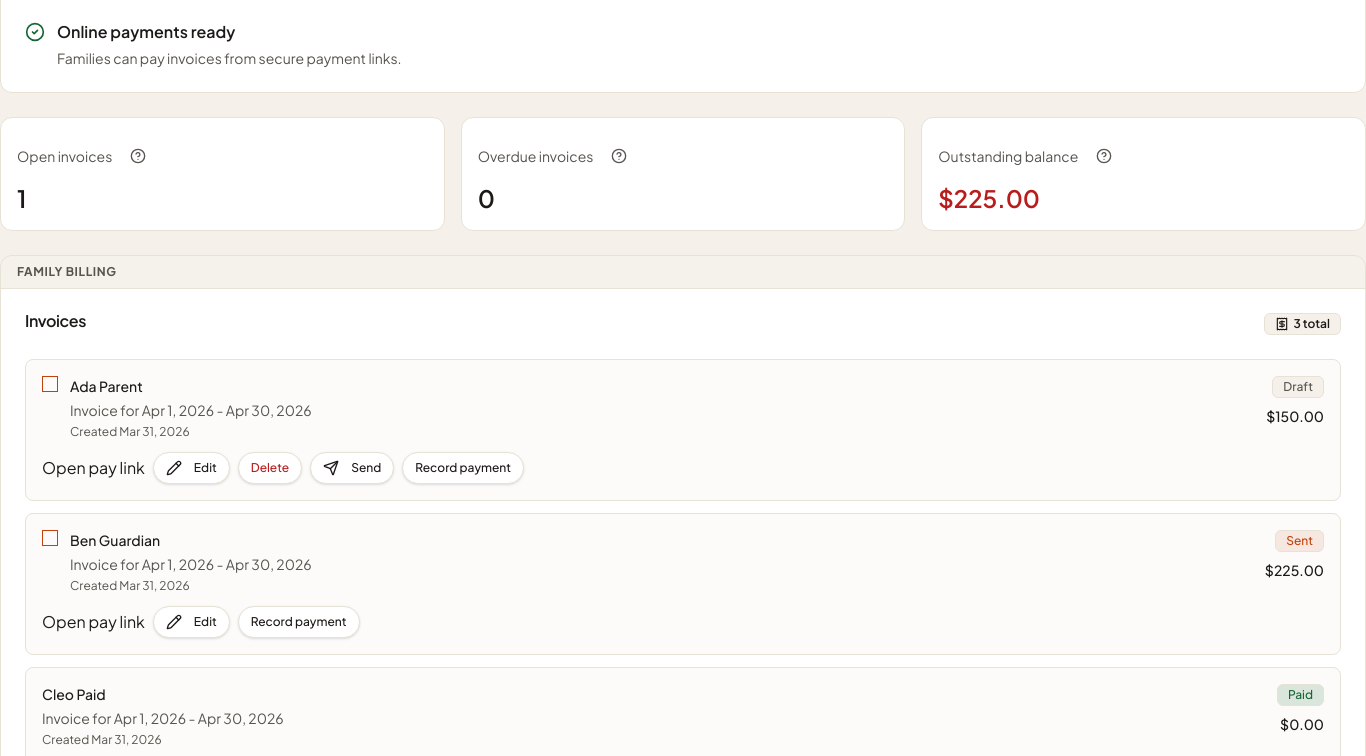
Test: BillingPage - bulk invoice actions › bulk sends selected draft invoices without sending selected non-drafts
The width and height of the screenshot is (1366, 756).
(page scrolled)
Click the checkbox named "Select invoice for Ada Parent" at (50, 384), box [42, 376, 58, 392]
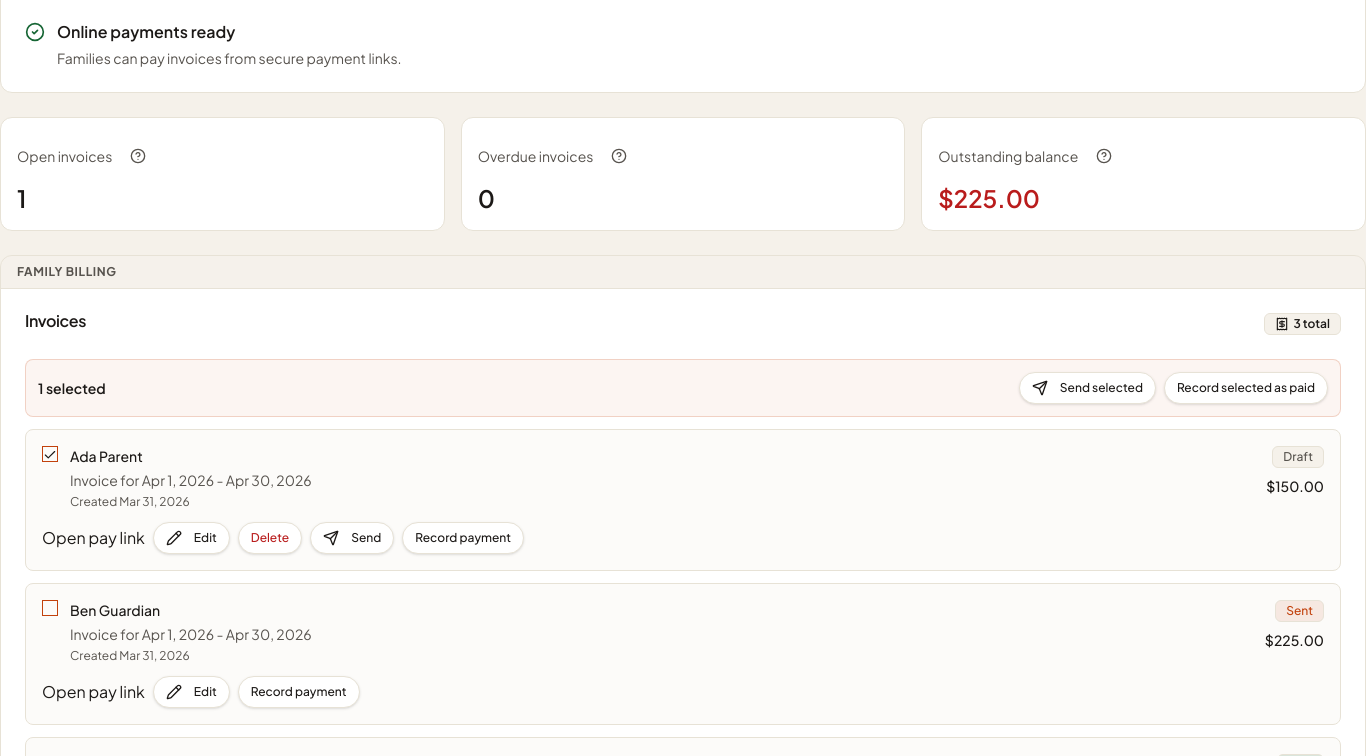
Click the checkbox named "Select invoice for Ben Guardian" at (50, 608), box [42, 600, 58, 616]
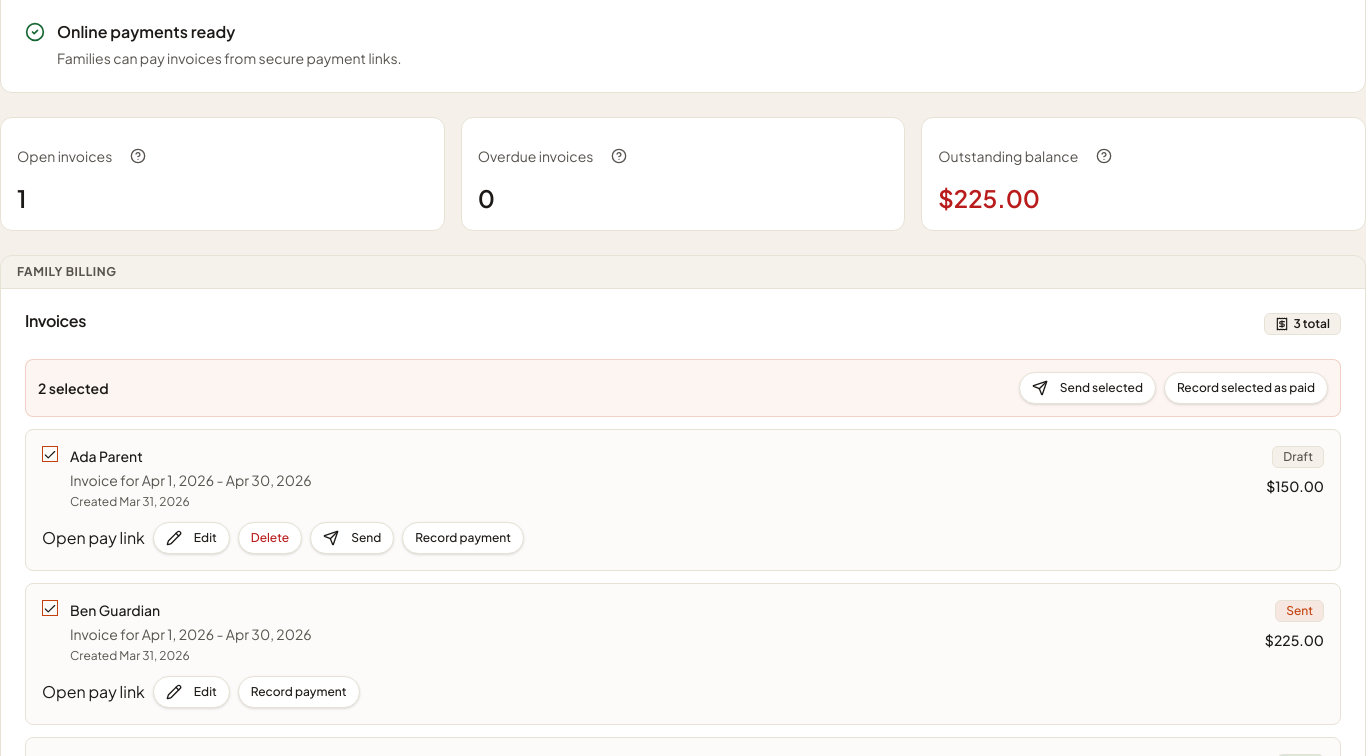
Click the button "Send selected" at (1087, 388), box [1019, 372, 1156, 404]
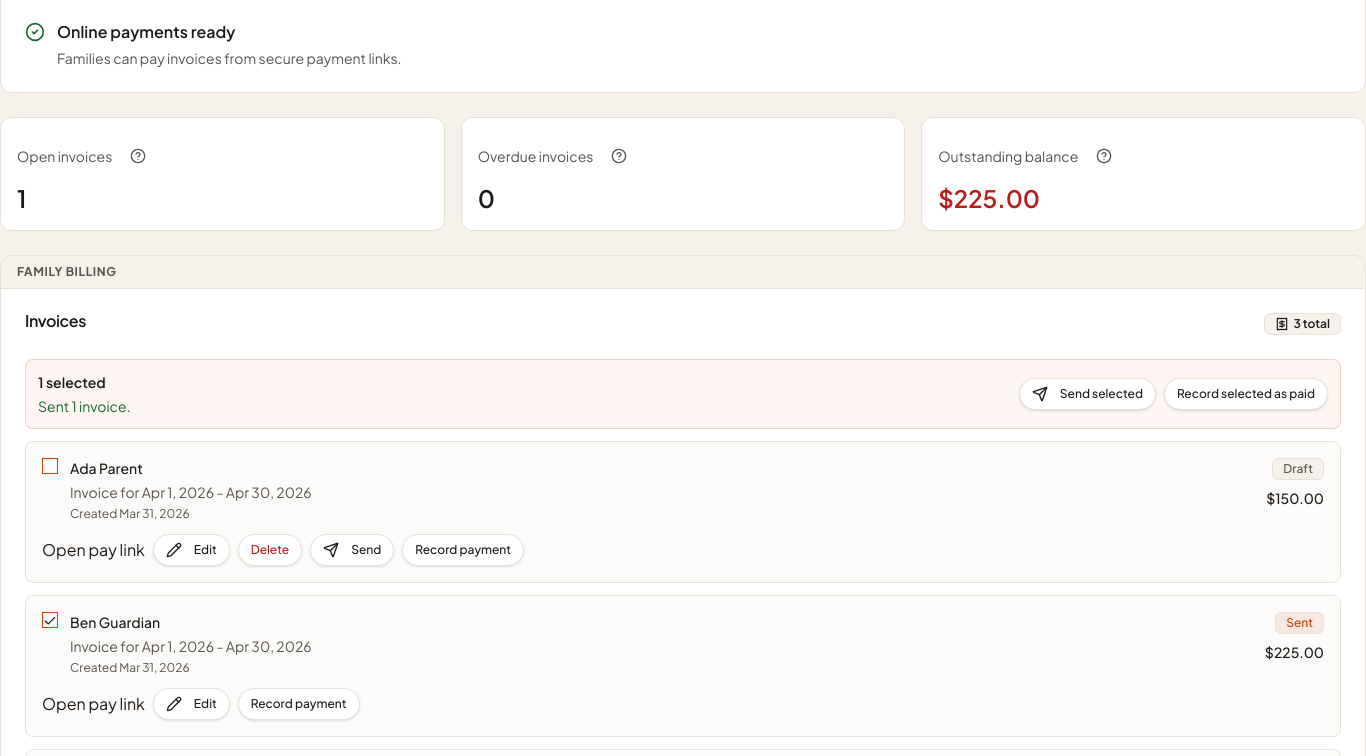
Check: the text "Sent 1 invoice." is shown, box [38, 396, 131, 416]
